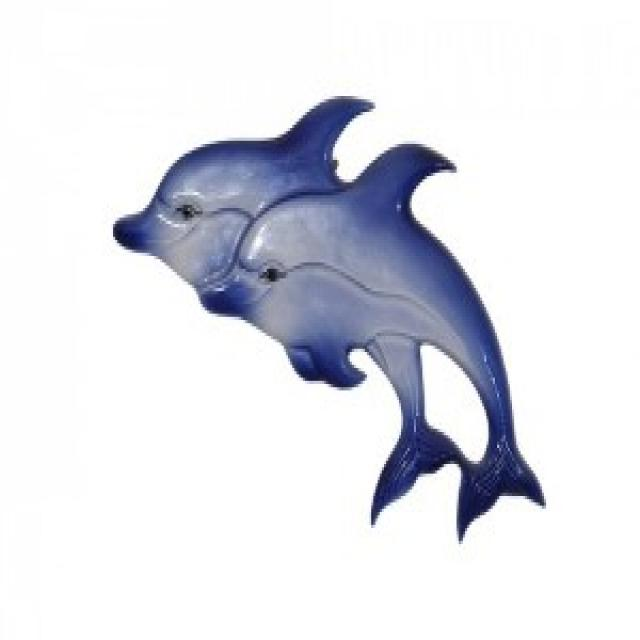Dolphin: (209, 138, 478, 460), (100, 124, 230, 280)
